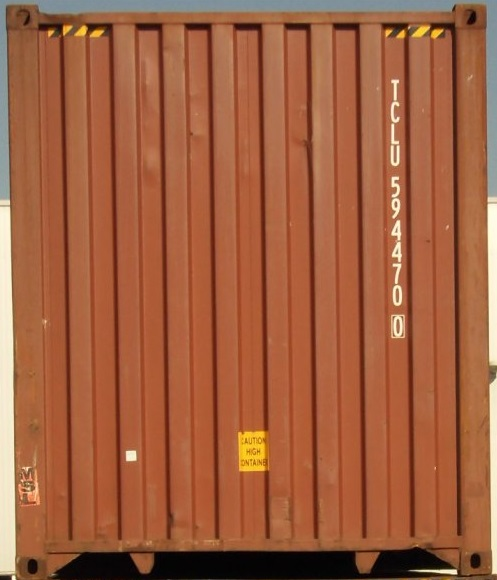container_no_door: (15, 5, 488, 580)
